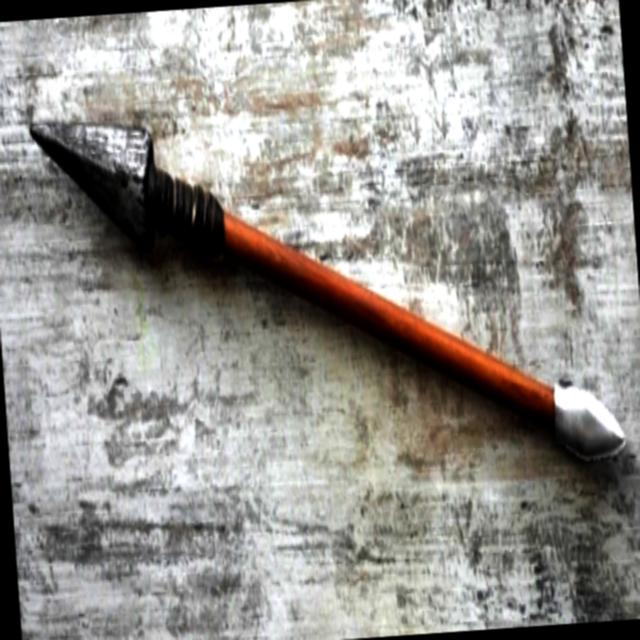spear: (22, 42, 636, 553)
